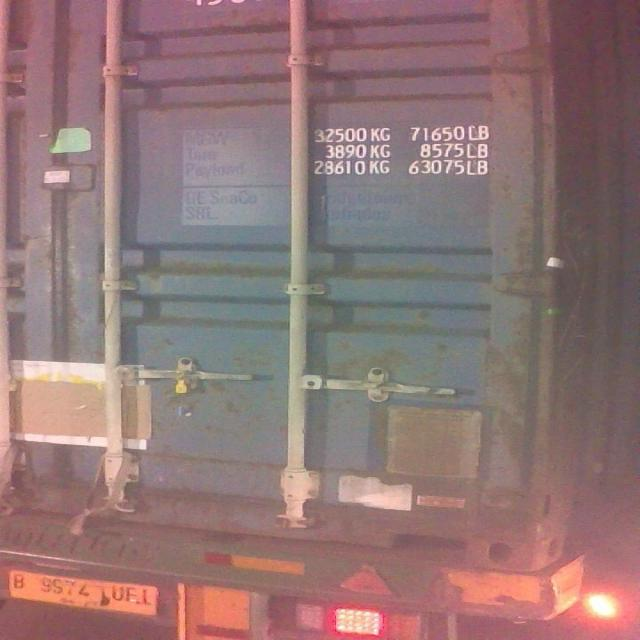seal: (174, 366, 192, 395)
